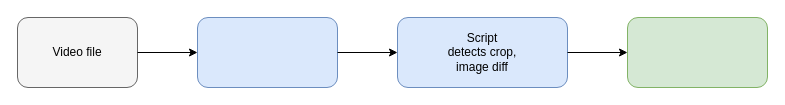
Image size: 785x105. Some labels were removed from this diagram. The shapes that lost their labels are listed below. From the top down, each one's box as (x1, y1, x2, y2) in pixels, then its label:
(196, 16, 338, 88): ffmpeg 1 fps export (2,700 PNGs)
(626, 16, 768, 88): Cropped PNGs (one per change)
